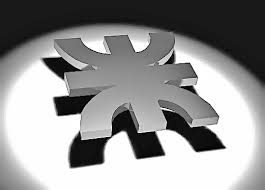utn: (56, 33, 219, 128)
